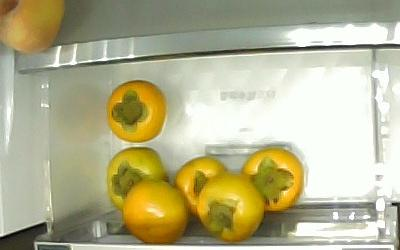persimmon: (198, 175, 263, 241), (239, 148, 303, 209), (106, 81, 167, 144), (125, 180, 186, 242), (107, 147, 164, 208), (173, 155, 227, 213)
